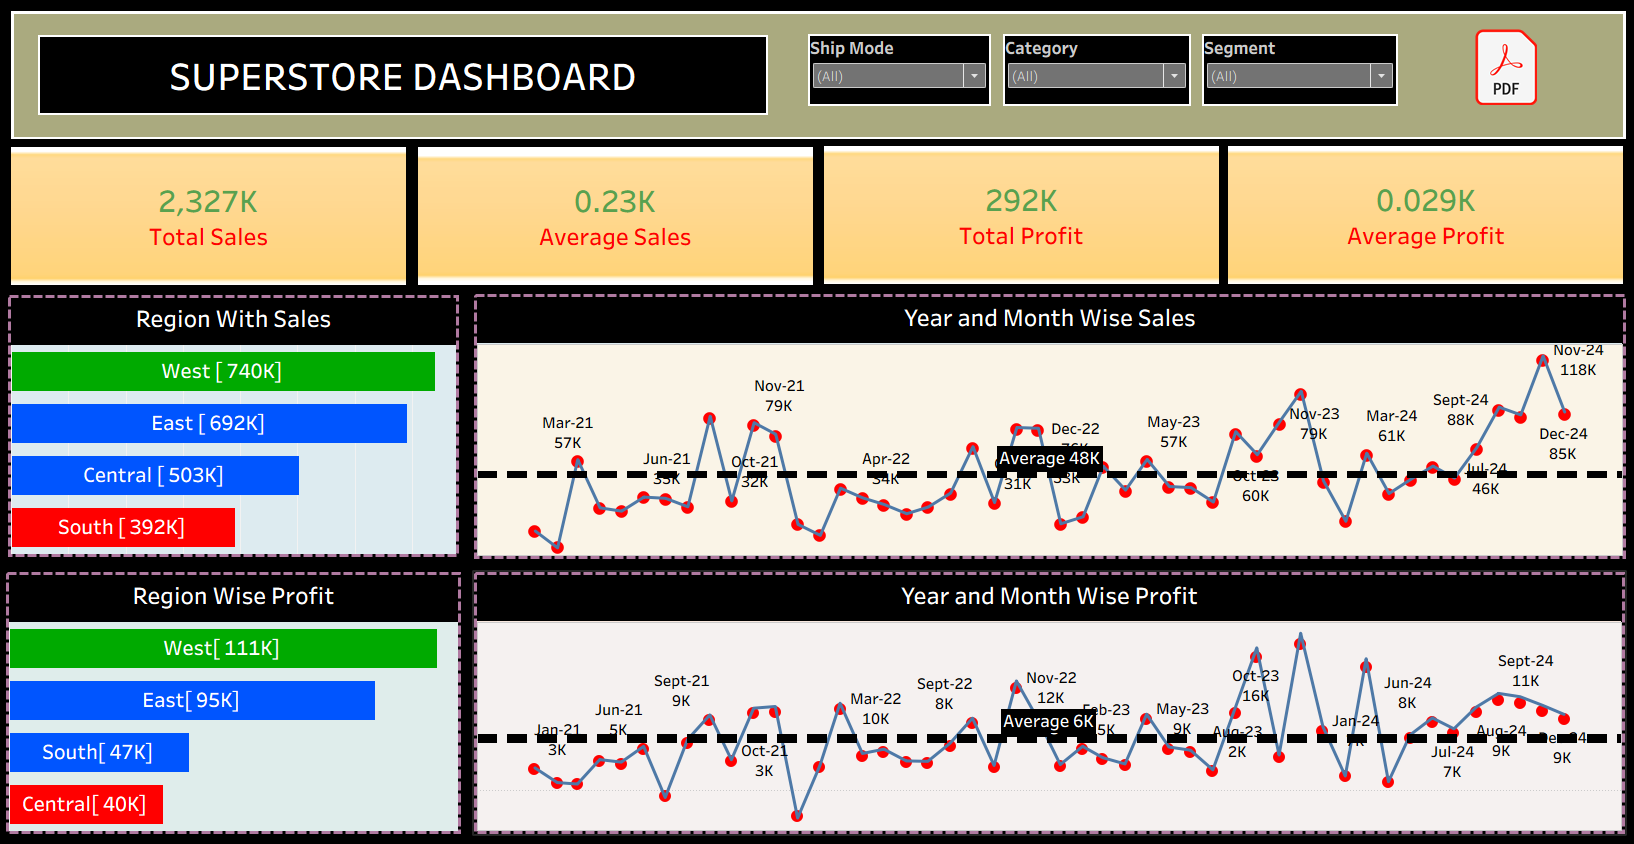

This screenshot's page, from the dashboard's own definition file:
{"tool":"tableau","page":{"name":"Dashboard 1","canvas":[1000,1000],"units":"permille","ordinal":0},"visuals":[{"type":"dashboard-object","box":[861.8,35,96.8,89.9]},{"type":"filter","title":"Region Wise Profit","param":"[federated.1eno3u11f145jk0zr53df02oujcq].[none:Ship Mode:nk]","box":[488.6,41.2,110.6,84.9]},{"type":"filter","title":"Region Wise Profit","param":"[federated.1eno3u11f145jk0zr53df02oujcq].[none:Category:nk]","box":[606.4,41.2,113.6,84.9]},{"type":"filter","title":"Region Wise Profit","param":"[federated.1eno3u11f145jk0zr53df02oujcq].[none:Segment:nk]","box":[726.6,41.2,118.4,84.9]},{"type":"text","box":[24,42.5,440.5,93.6]},{"type":"worksheet","title":"Total Profit","mark":"Shape","box":[498.5,172.3,238.4,162.3]},{"type":"worksheet","title":"Average Profit ","mark":"Shape","box":[742.3,172.3,238.4,162.3]},{"type":"worksheet","title":" Total Sales","mark":"Shape","box":[7.9,173.5,238.4,162.3]},{"type":"worksheet","title":"Average Sales","mark":"Shape","box":[253.5,173.5,238.4,162.3]},{"type":"worksheet","title":"Year and Month Wise Sales","mark":"Automatic","rows":["Sales","Sales"],"cols":["Order Date"],"box":[287.3,347.1,695.2,310.9]},{"type":"worksheet","title":"Region With Sales","mark":"Automatic","rows":["Region"],"cols":["Sales"],"box":[6,348.3,272.2,308.4]},{"type":"worksheet","title":"Region Wise Profit","mark":"Automatic","rows":["Region"],"cols":["Profit"],"box":[4.8,672.9,274.6,308.4]},{"type":"worksheet","title":"Year and Month Wise Profit","mark":"Automatic","rows":["Profit","Profit"],"cols":["Order Date"],"box":[287.3,672.9,694.6,308.4]}]}

Visuals, with their boxes on the dashboard's canvas, which has no fixed pixel size, in thousandths of its width and height (x1, y1, x2, y2). These are canvas units, not pixel positions in the 1634x844 screenshot, which may show the page scaled, cropped or inside an application window:
dashboard-object: l=862, t=35, r=959, b=125
"Region Wise Profit" filter: l=489, t=41, r=599, b=126
"Region Wise Profit" filter: l=606, t=41, r=720, b=126
"Region Wise Profit" filter: l=727, t=41, r=845, b=126
text: l=24, t=42, r=464, b=136
"Total Profit" worksheet (Shape marks): l=498, t=172, r=737, b=335
"Average Profit " worksheet (Shape marks): l=742, t=172, r=981, b=335
" Total Sales" worksheet (Shape marks): l=8, t=174, r=246, b=336
"Average Sales" worksheet (Shape marks): l=254, t=174, r=492, b=336
"Year and Month Wise Sales" worksheet: l=287, t=347, r=982, b=658
"Region With Sales" worksheet: l=6, t=348, r=278, b=657
"Region Wise Profit" worksheet: l=5, t=673, r=279, b=981
"Year and Month Wise Profit" worksheet: l=287, t=673, r=982, b=981
